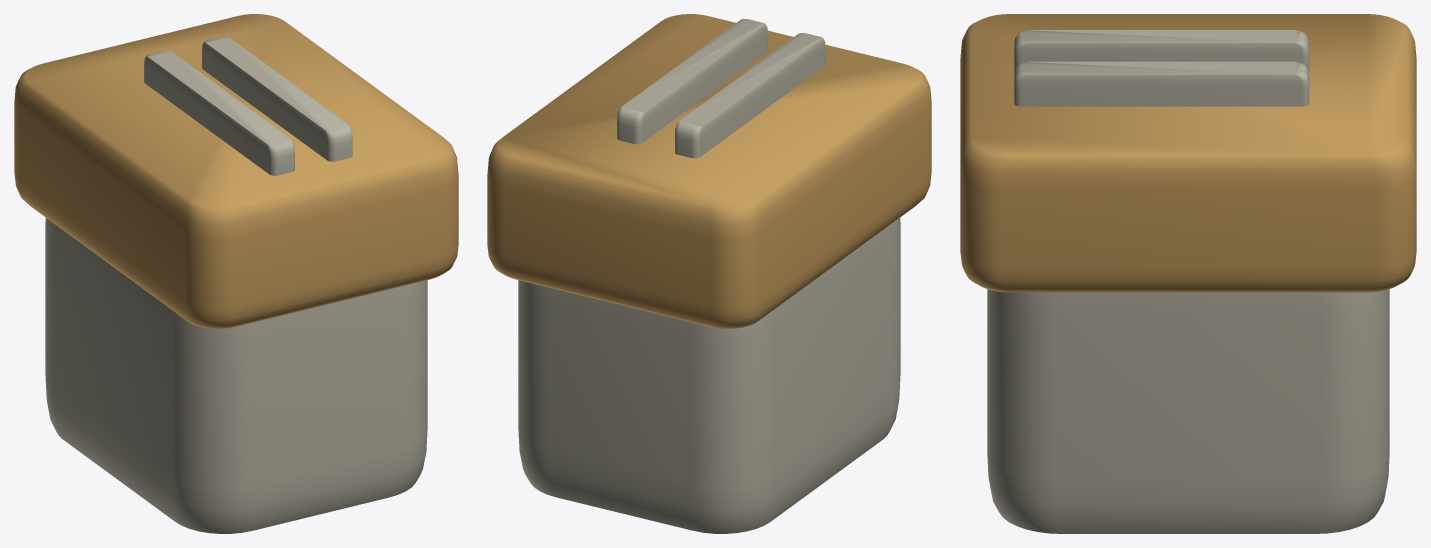
Rendered from Atelier.glb.
The picture shows the model from 3 angles, left to right: view 1: azimuth 30°, elevation 25°; view 2: azimuth 150°, elevation 25°; view 3: azimuth 270°, elevation 25°; orthographic projection. The views are drawn at different scales.
Parts seen in each view (by area): view 1: Stop thumb, Stop clamp, Grip knurl (×2); view 2: Stop thumb, Stop clamp, Grip knurl (×2); view 3: Stop thumb, Stop clamp, Grip knurl (×2).
Part boxes in pixels (x1,y1,x2,y2): Stop thumb: (14,14,458,328); Stop clamp: (45,218,427,533); Grip knurl (×2): (144,36,352,175); Stop thumb: (487,14,931,328); Stop clamp: (518,218,900,533); Grip knurl (×2): (617,19,825,158); Stop thumb: (960,14,1416,292); Stop clamp: (987,289,1389,533); Grip knurl (×2): (1014,30,1309,106).
Size of the model in its own units: 0.13 by 0.1715 by 0.17.
